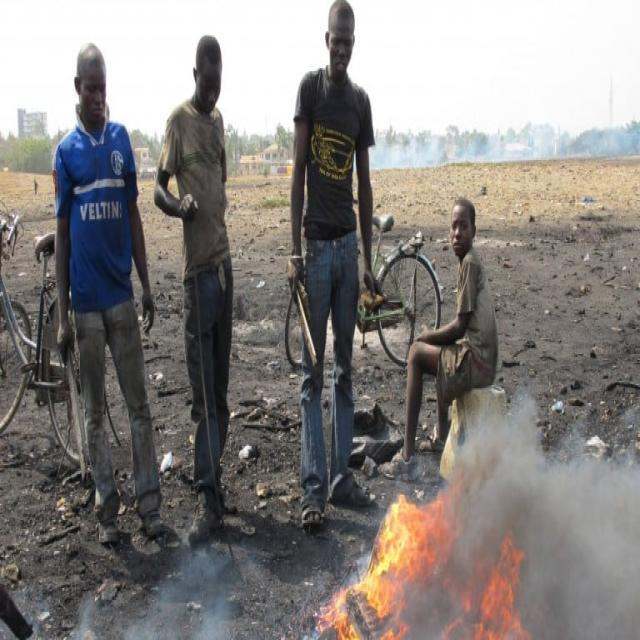Fire: (374, 492, 441, 606), (476, 563, 522, 640)
Smoke: (530, 454, 638, 638), (469, 418, 529, 529)
